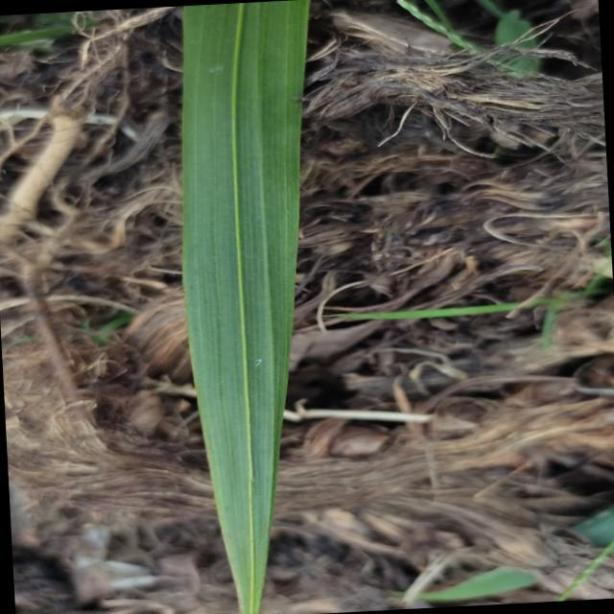Healthy: (180, 0, 312, 605)
